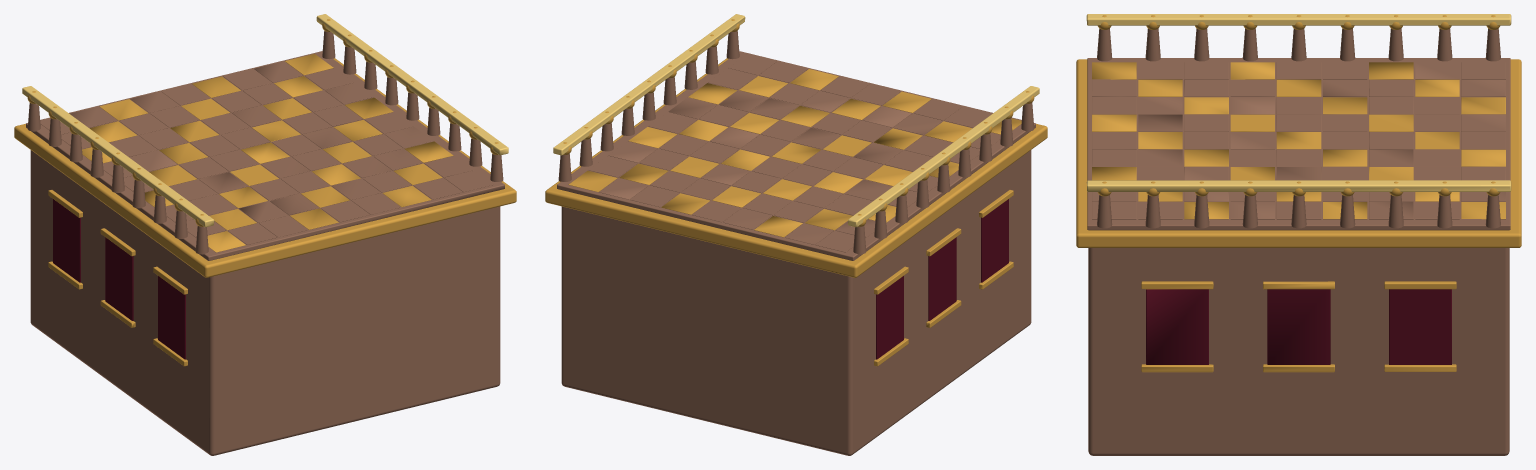
Rendered from temple_rooftop_mobile.glb.
The picture shows the model from 3 angles, left to right: view 1: azimuth 30°, elevation 25°; view 2: azimuth 150°, elevation 25°; view 3: azimuth 270°, elevation 25°; orthographic projection. The views are drawn at different scales.
Parts seen in each view (by area): view 1: Carved sandstone, Antique golden embroidery, Oxblood lacquer, Polished gold edges; view 2: Carved sandstone, Antique golden embroidery, Oxblood lacquer, Polished gold edges; view 3: Carved sandstone, Antique golden embroidery, Oxblood lacquer, Polished gold edges.
Boxes of the visible parts, box(x1,y1,x2,y2) form: Carved sandstone: box(26, 31, 504, 455); Antique golden embroidery: box(14, 19, 516, 366); Oxblood lacquer: box(53, 199, 185, 359); Polished gold edges: box(22, 14, 508, 227); Carved sandstone: box(557, 31, 1035, 455); Antique golden embroidery: box(545, 19, 1047, 366); Oxblood lacquer: box(876, 199, 1008, 359); Polished gold edges: box(553, 14, 1039, 227); Carved sandstone: box(1087, 28, 1510, 455); Antique golden embroidery: box(1076, 15, 1521, 372); Oxblood lacquer: box(1146, 289, 1451, 364); Polished gold edges: box(1086, 14, 1511, 191).
Bounding box in the file's own units: 5.15 × 3.76 × 5.5.
